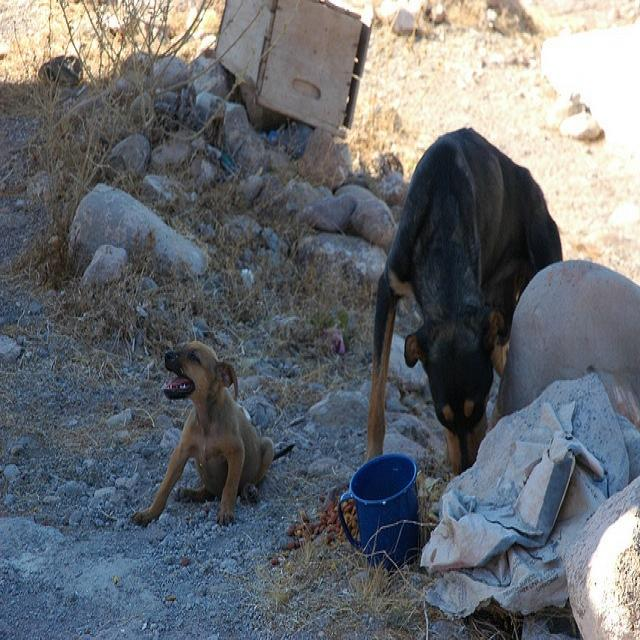dog: (359, 120, 564, 478), (130, 337, 294, 528)
